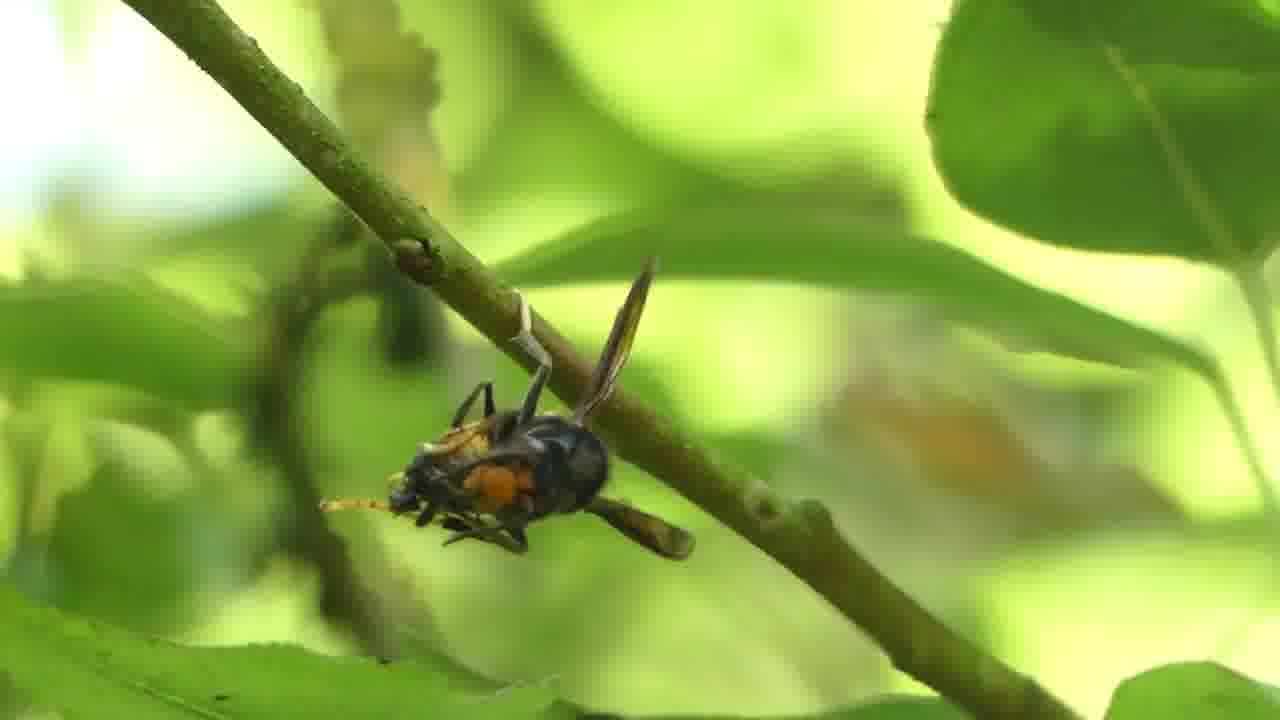hornet: (313, 336, 721, 591)
